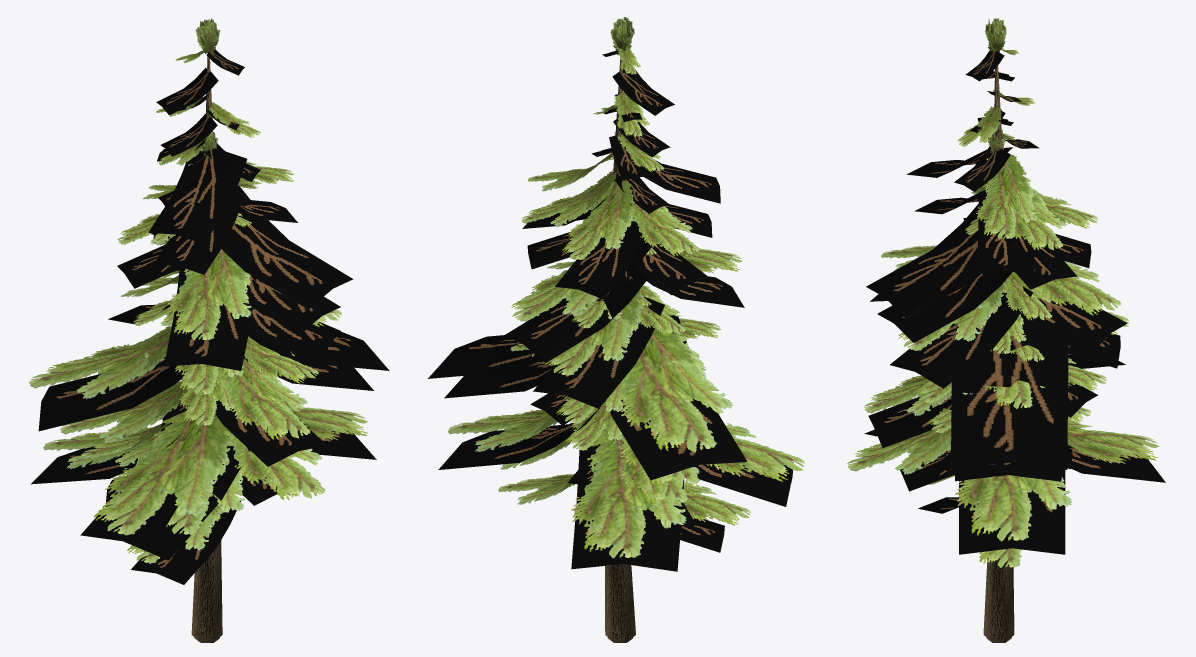
File: Pine Tree.fbx
3 views of the same model, side by side, from view 1: azimuth 30°, elevation 25°; view 2: azimuth 150°, elevation 25°; view 3: azimuth 270°, elevation 25° (orthographic).
Parts seen in each view (by area): view 1: Pine Tree 3, Pine Tree 4, Pine Tree 1, Pine Tree 2, Pine Tree 5; view 2: Pine Tree 3, Pine Tree 4, Pine Tree 2, Pine Tree 1, Pine Tree 5; view 3: Pine Tree 3, Pine Tree 4, Pine Tree 1, Pine Tree 2, Pine Tree 5.
Part boxes in pixels (x1,y1,x2,y2): Pine Tree 3: (29,18,389,640); Pine Tree 4: (31,94,376,560); Pine Tree 1: (60,131,325,642); Pine Tree 2: (81,297,320,563); Pine Tree 5: (106,397,240,584); Pine Tree 3: (428,17,804,640); Pine Tree 4: (438,94,793,571); Pine Tree 2: (498,271,750,525); Pine Tree 1: (500,132,720,642); Pine Tree 5: (568,470,724,552); Pine Tree 3: (864,18,1159,640); Pine Tree 4: (864,91,1165,554); Pine Tree 1: (847,130,1106,642); Pine Tree 2: (900,312,1097,567); Pine Tree 5: (918,448,1072,513).
Bounding box in the file's own units: 8.73 × 15.78 × 7.92.
Materials: 3 (3 with a texture image).
